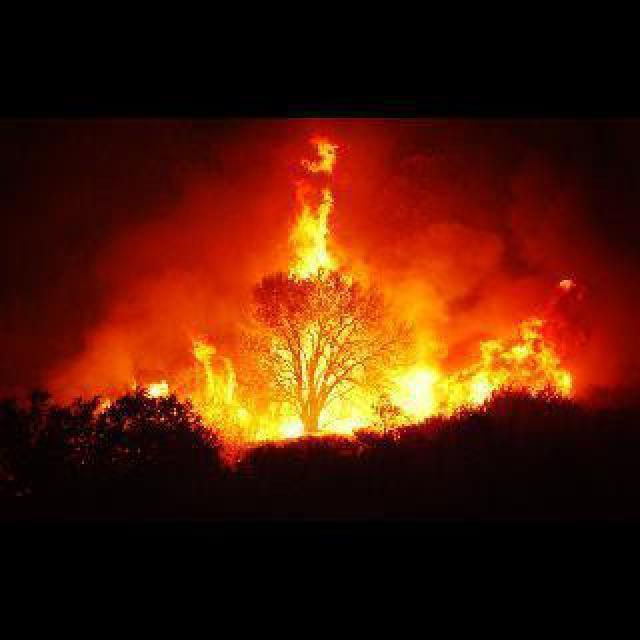Fire: (136, 134, 582, 436)
